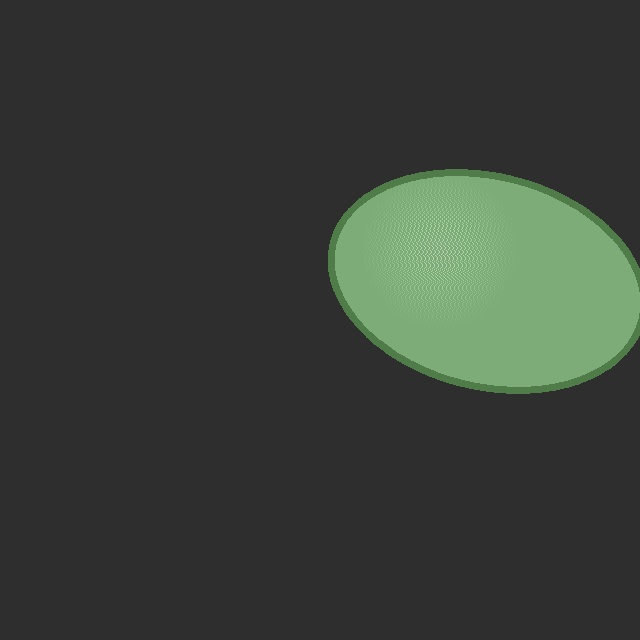lens: (331, 173, 640, 389)
